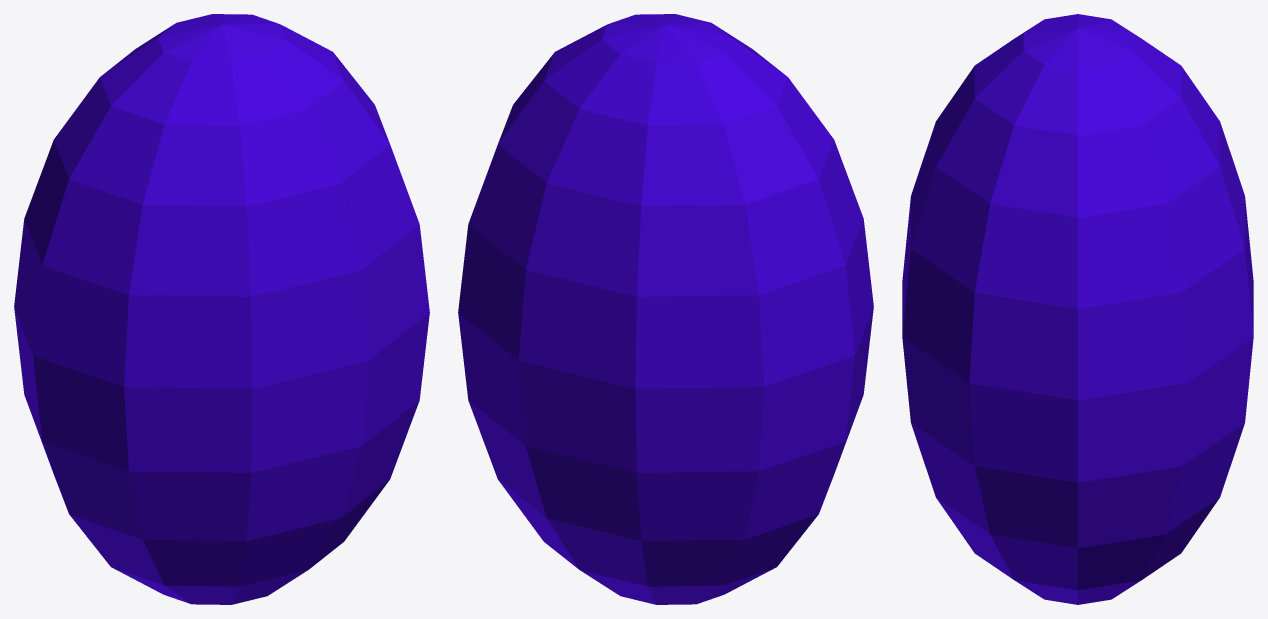
Rendered from enemy 2.fbx.
The picture shows the model from 3 angles, left to right: view 1: azimuth 30°, elevation 25°; view 2: azimuth 150°, elevation 25°; view 3: azimuth 270°, elevation 25°; orthographic projection.
Visible parts, largest first — view 1: pSphere1; view 2: pSphere1; view 3: pSphere1.
Boxes of the visible parts, bbox=[...] form: pSphere1: bbox=[14, 14, 429, 604]; pSphere1: bbox=[458, 14, 873, 604]; pSphere1: bbox=[902, 14, 1253, 604].
Bounding box in the file's own units: 135 × 195 × 110.
